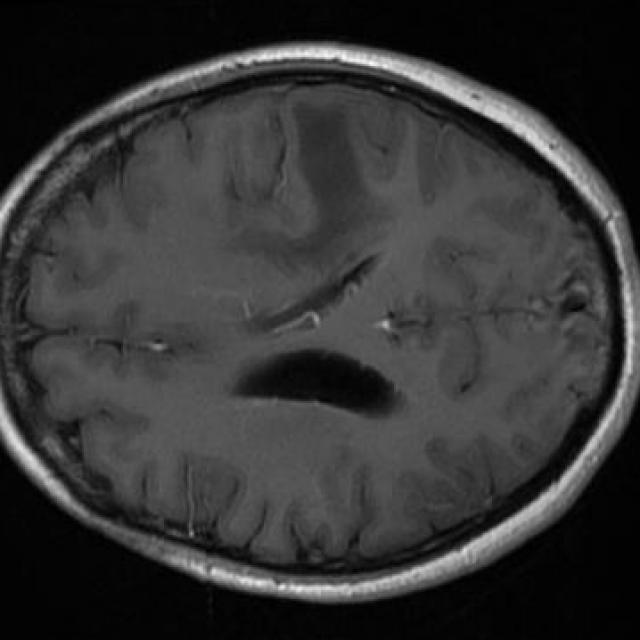glioma: (230, 103, 376, 273)
